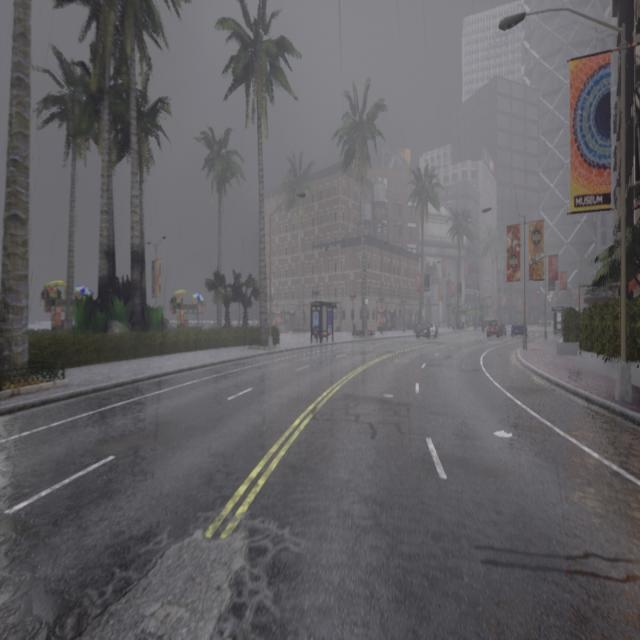bien_chi_dan: (536, 288, 540, 299), (556, 288, 558, 296), (537, 288, 539, 294), (556, 289, 558, 293)
